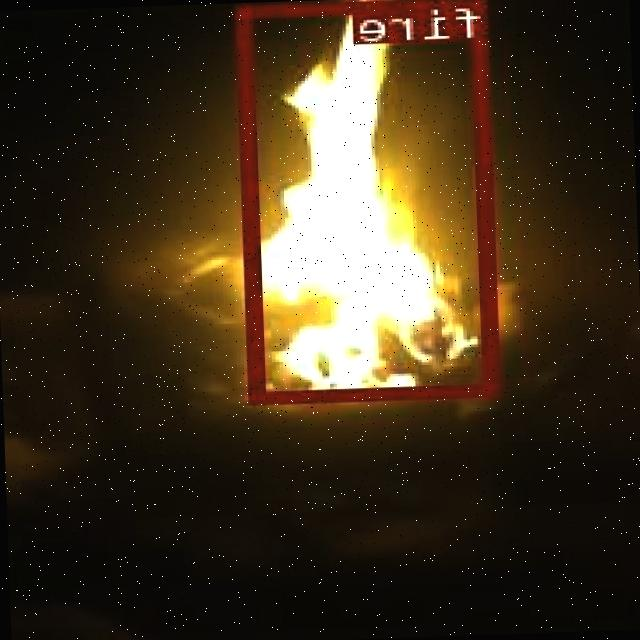fire: (240, 0, 503, 401)
